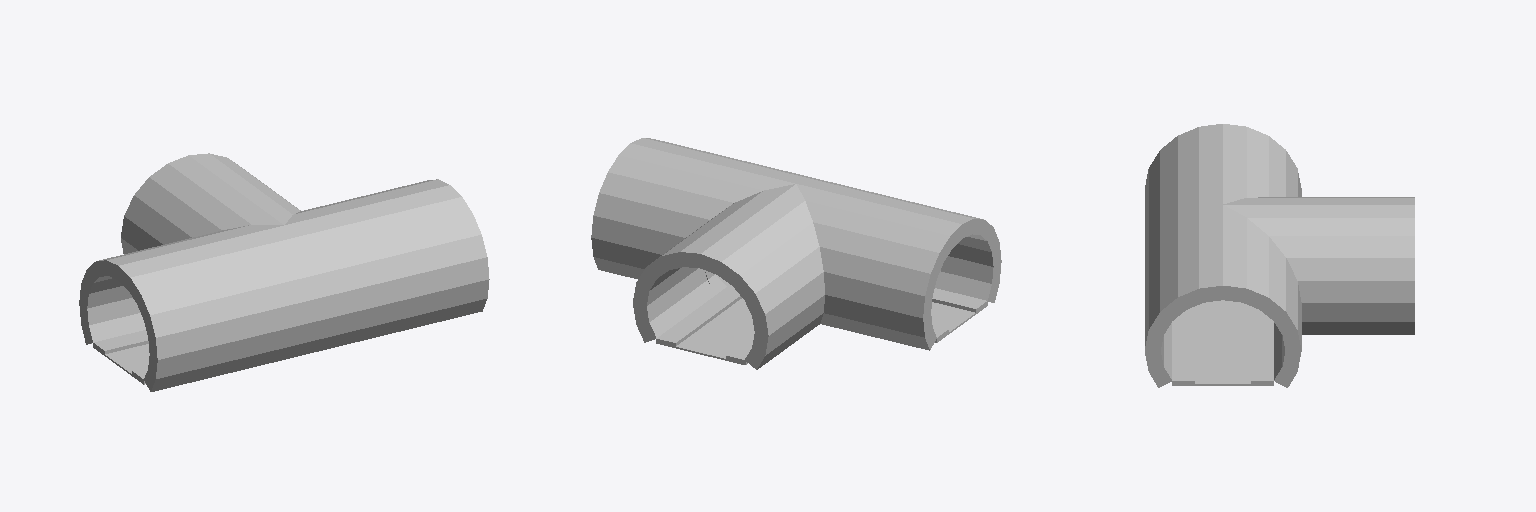
Rendered from sewer_T.obj.
The picture shows the model from 3 angles: view 1: azimuth 30°, elevation 25°; view 2: azimuth 150°, elevation 25°; view 3: azimuth 270°, elevation 25°; orthographic projection.
Parts seen in each view (by area): view 1: walls3, walls5, walls4, floor2, walkway7; view 2: walls3, walls4, walls5, floor2, walkway5, walkway8, walkway7; view 3: walls4, walls5, walls3, floor2, walkway8, walkway5.
Part boxes in pixels (left/top/right/bottom): walls3: left=79, top=225, right=323, bottom=391; walls5: left=285, top=179, right=489, bottom=351; walls4: left=121, top=153, right=300, bottom=253; floor2: left=105, top=344, right=149, bottom=375; walkway7: left=93, top=330, right=148, bottom=355; walls3: left=797, top=178, right=1001, bottom=350; walls4: left=633, top=184, right=824, bottom=369; walls5: left=591, top=138, right=815, bottom=283; floor2: left=675, top=298, right=975, bottom=360; walkway5: left=656, top=275, right=741, bottom=347; walkway8: left=932, top=288, right=987, bottom=313; walkway7: left=726, top=326, right=948, bottom=364; walls4: left=1223, top=197, right=1414, bottom=334; walls5: left=1145, top=205, right=1301, bottom=387; walls3: left=1145, top=124, right=1301, bottom=265; floor2: left=1195, top=300, right=1261, bottom=385; walkway8: left=1172, top=307, right=1194, bottom=385; walkway5: left=1251, top=312, right=1273, bottom=385.
Bounding box in the file's own units: 100 × 29.61 × 70.65.